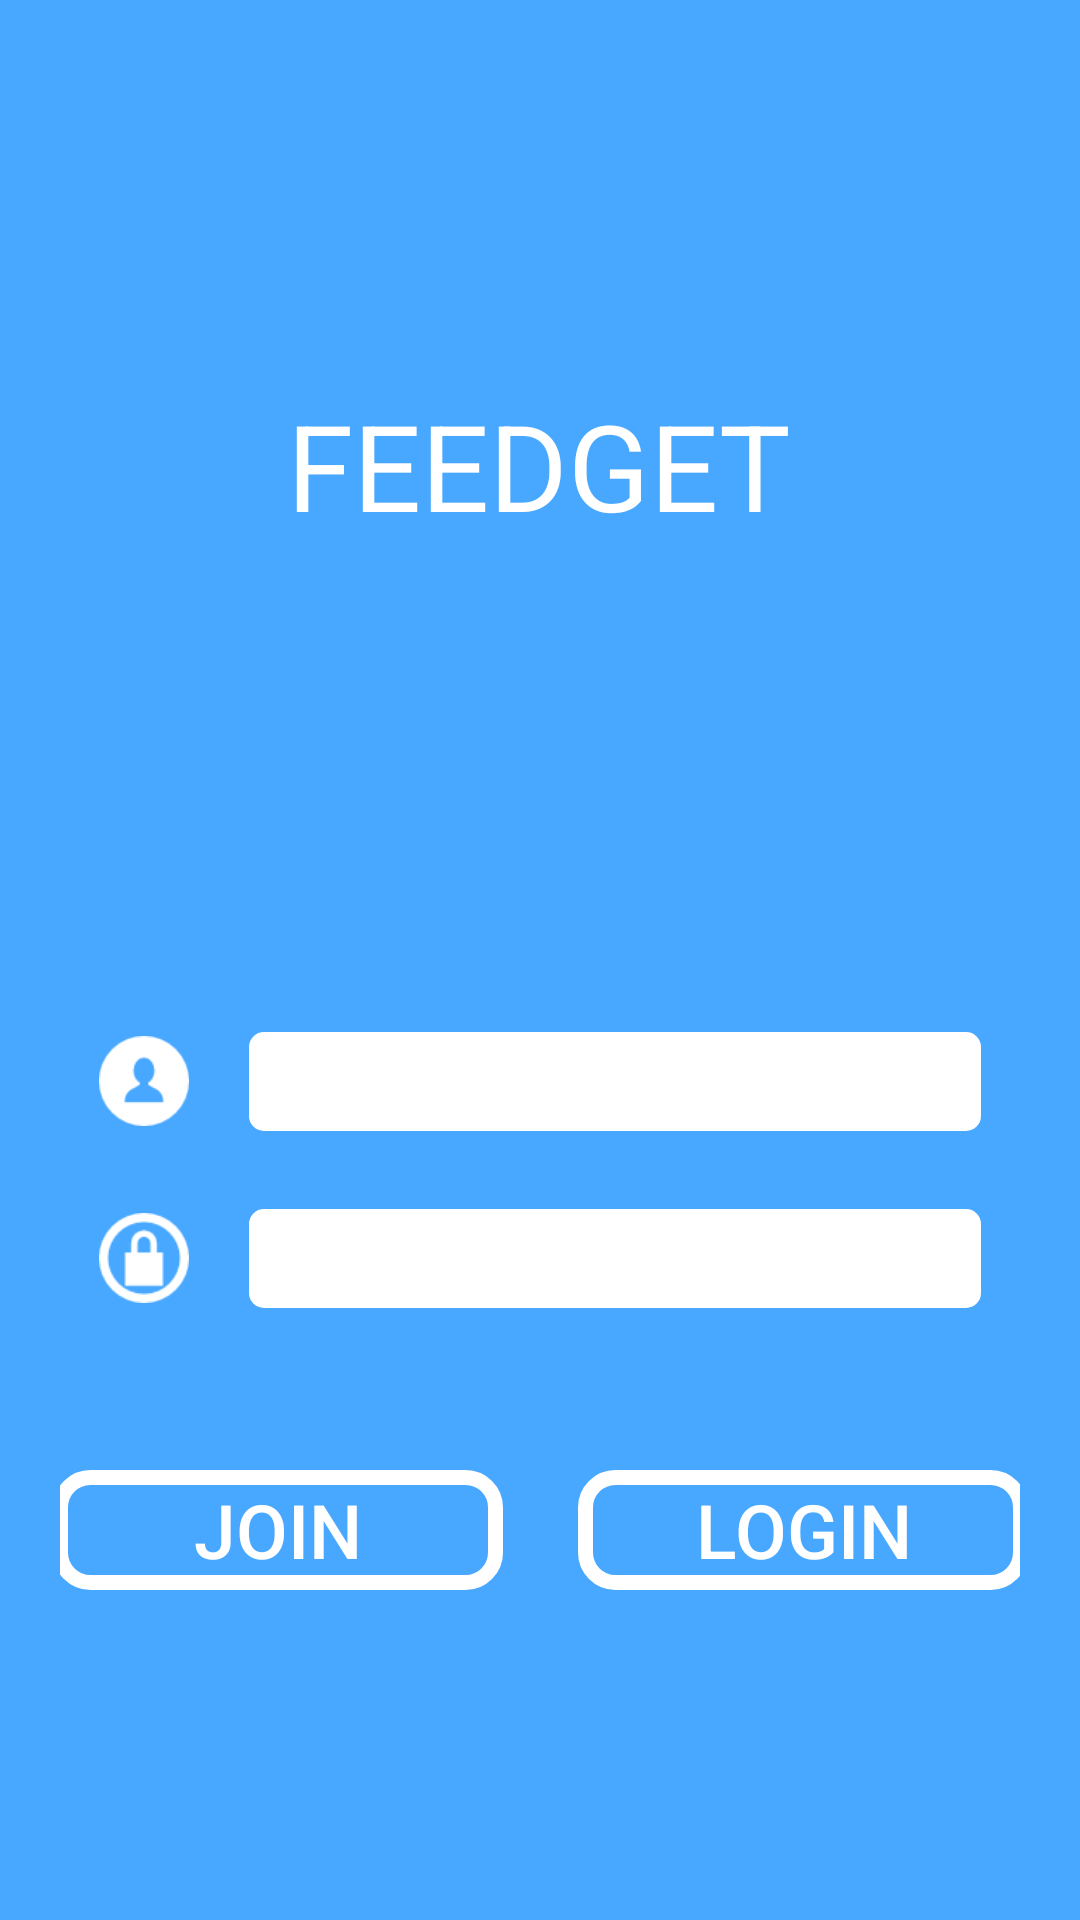

Named icons in this screenshot (1080w x 1920h) and their centers, (x,y):
user: (144,1081)
